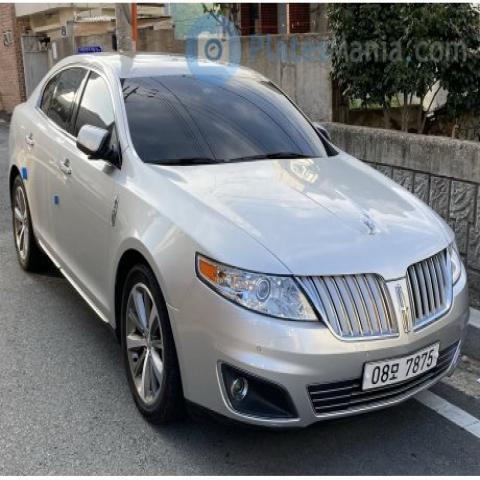LP: (360, 336, 450, 405)
